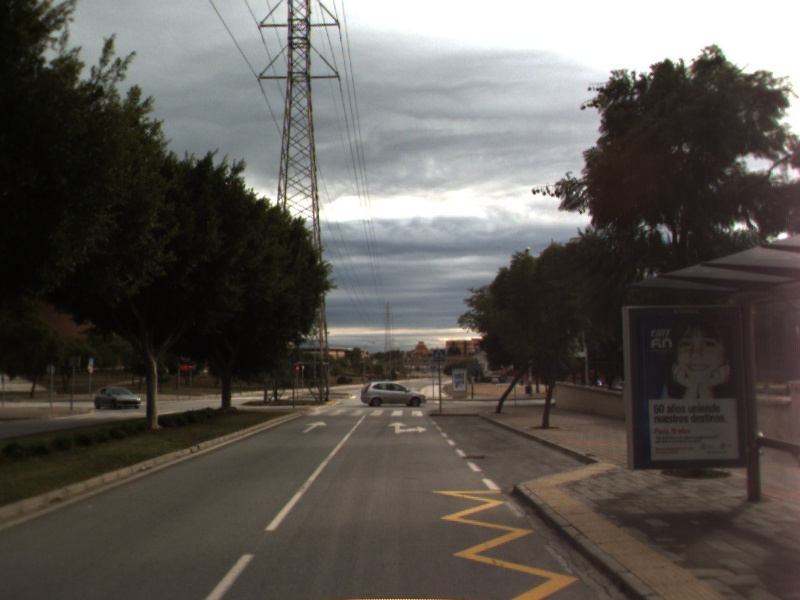STRAIGHT: (300, 418, 329, 435)
STRAIGHT_RIGHT: (386, 419, 429, 436)
